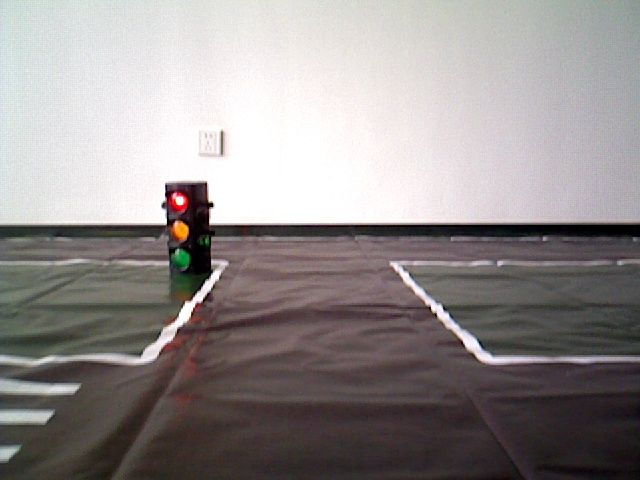red: (166, 184, 209, 275)
